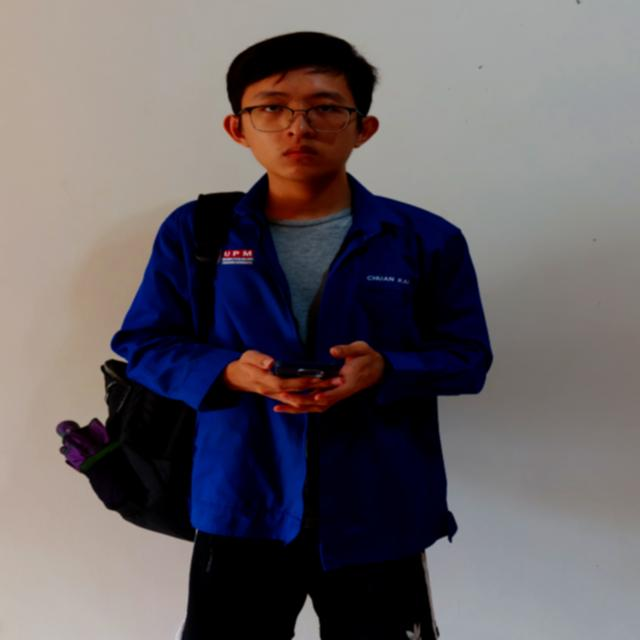person_with_labcoat: (57, 32, 492, 640)
